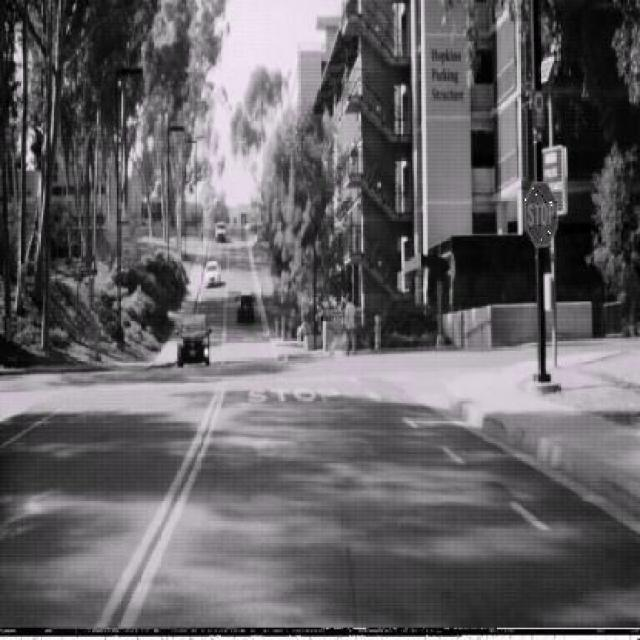stop: (523, 178, 558, 248)
